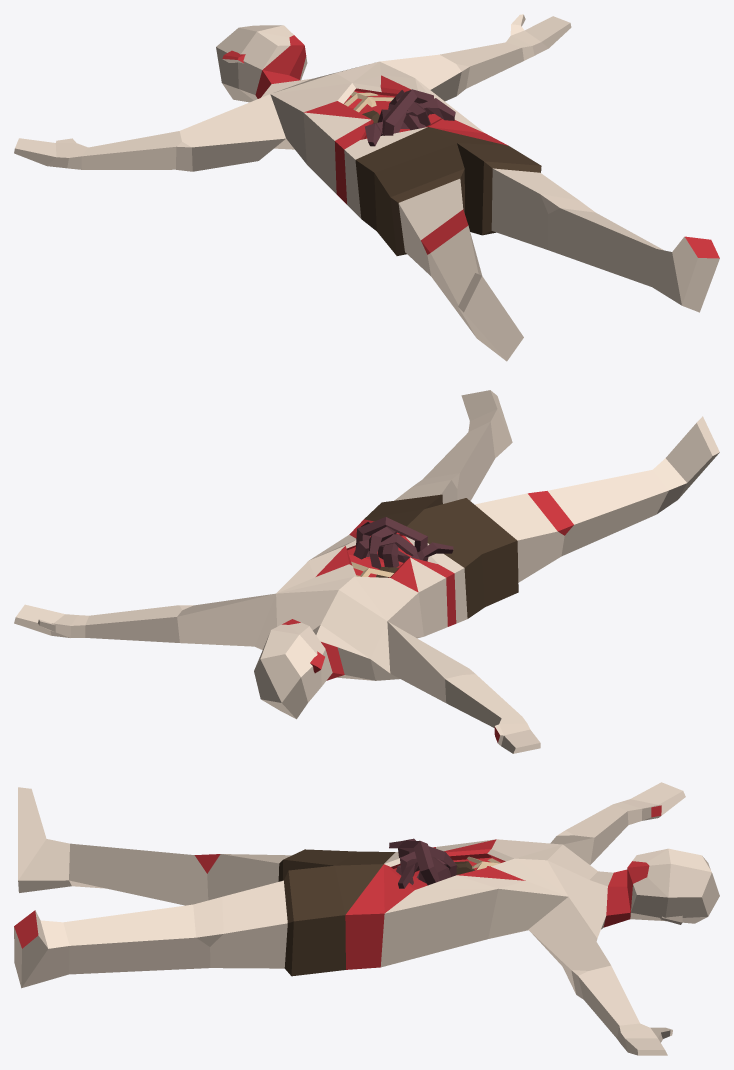
The model's file is apocalypse-man-chest-dead.glb.
3 renders of one model, top to bottom at view 1: azimuth 30°, elevation 25°; view 2: azimuth 150°, elevation 25°; view 3: azimuth 270°, elevation 25°, orthographic. The views are drawn at different scales.
Visible parts, largest first — view 1: man-chest-dead; view 2: man-chest-dead; view 3: man-chest-dead.
Boxes of the visible parts, bbox=[...] form: man-chest-dead: bbox=[14, 14, 719, 361]; man-chest-dead: bbox=[14, 390, 719, 753]; man-chest-dead: bbox=[14, 782, 719, 1055].
Size of the model in its own units: 1.63 by 0.3065 by 1.8.
